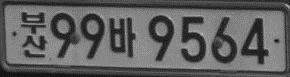4: (240, 17, 269, 64)
5: (179, 15, 206, 63)
6: (210, 16, 237, 63)
9: (48, 11, 77, 58), (147, 14, 175, 62), (78, 12, 106, 59)
바: (108, 17, 136, 58)
부산_V: (19, 10, 48, 58)
